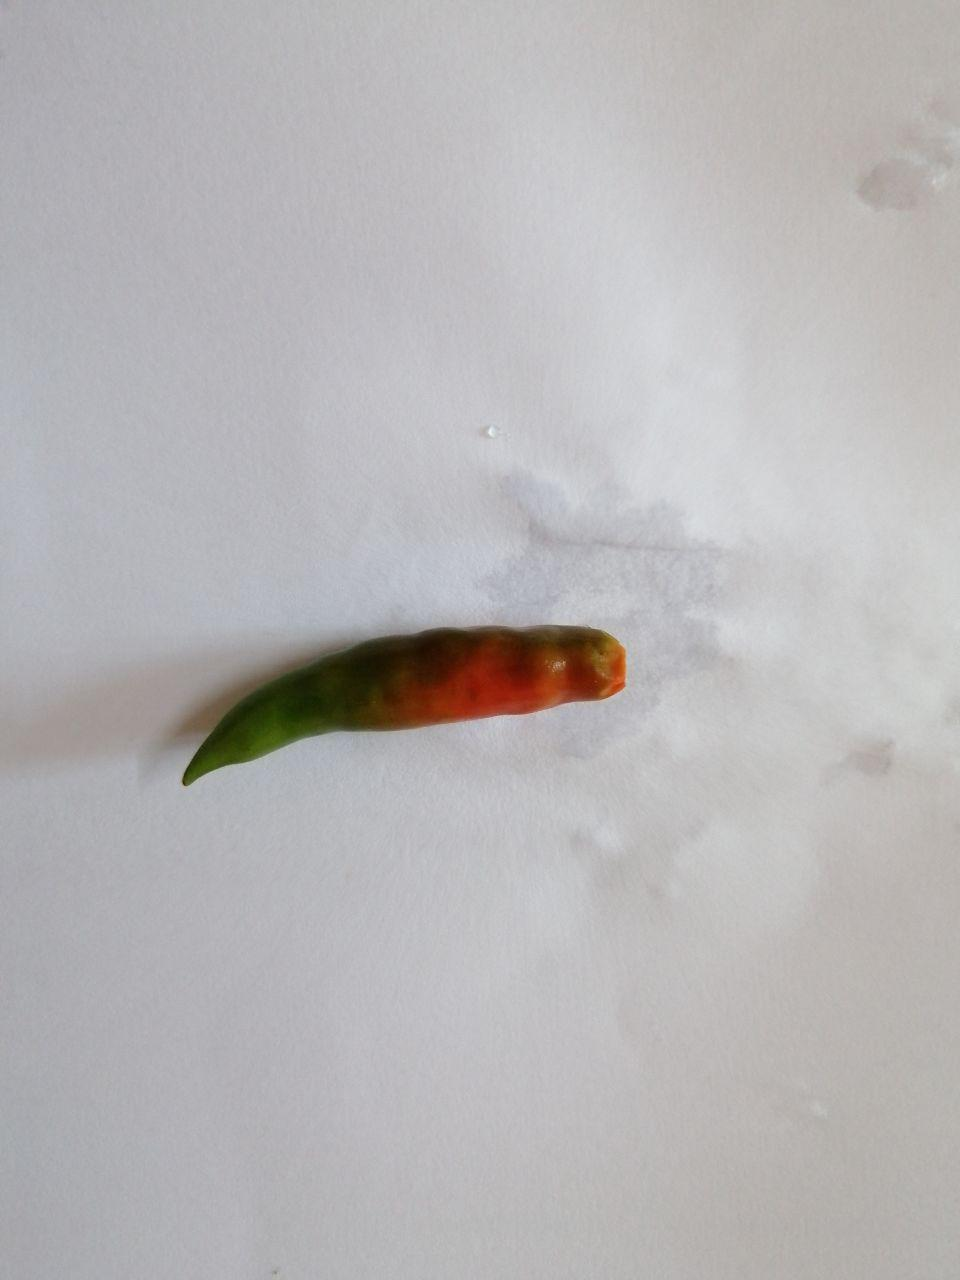lada kuning: (133, 588, 724, 827)
